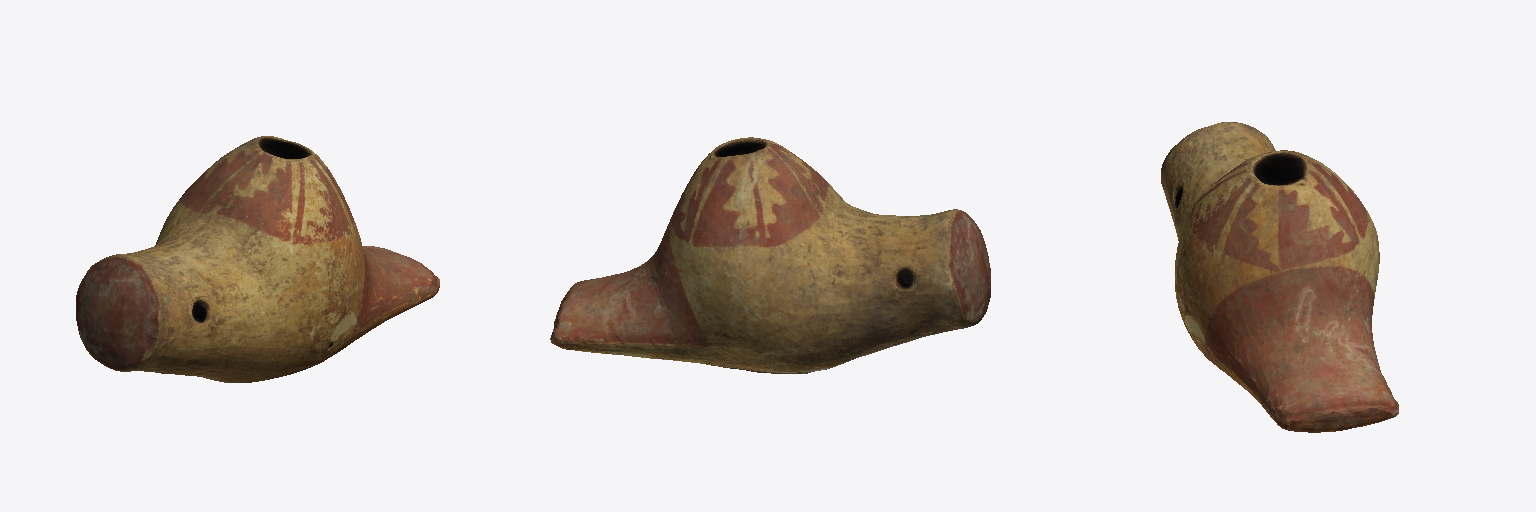
3 renders of one model, left to right at view 1: azimuth 30°, elevation 25°; view 2: azimuth 150°, elevation 25°; view 3: azimuth 270°, elevation 25°, orthographic.
Parts seen in each view (by area): view 1: piece2128.001; view 2: piece2128.001; view 3: piece2128.001.
Part boxes in pixels (x1,y1,x2,y2): piece2128.001: (76,136,439,382); piece2128.001: (550,137,990,373); piece2128.001: (1161,122,1398,432).
Size of the model in its own units: 0.3487 by 0.1899 by 0.1917.
Materials: 1 (1 with a texture image).